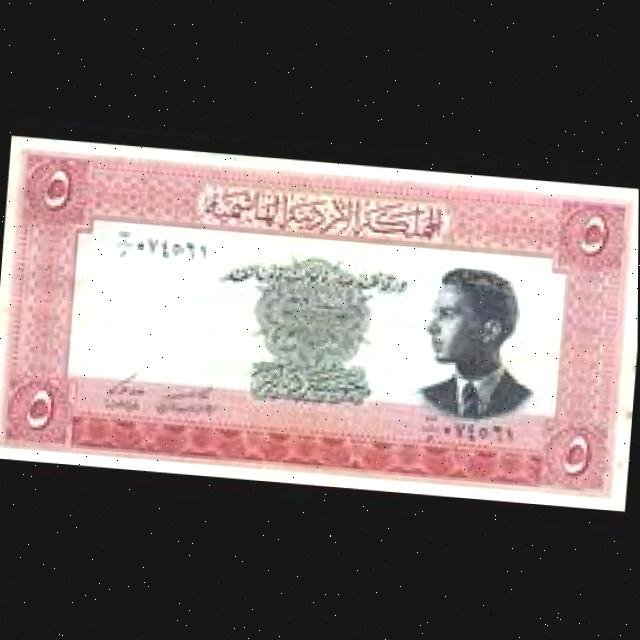banknote: (0, 132, 639, 500)
